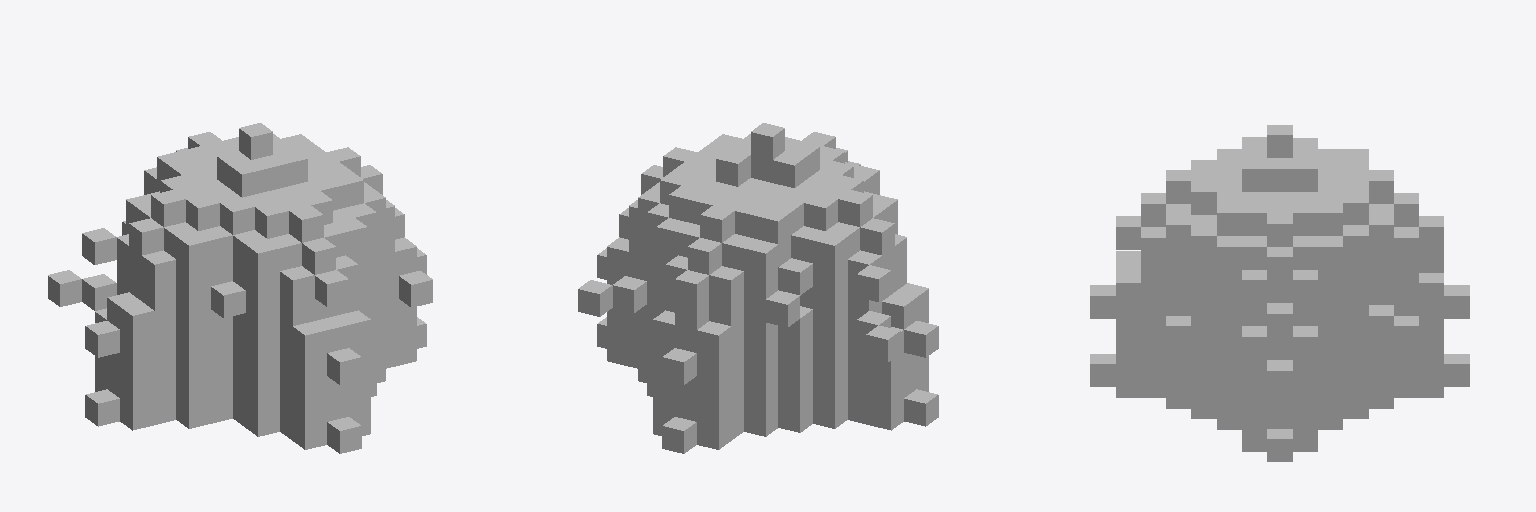
The model's file is Explosion 1.obj.
3 views of the same model, side by side, from view 1: azimuth 30°, elevation 25°; view 2: azimuth 150°, elevation 25°; view 3: azimuth 270°, elevation 25° (orthographic).
Parts seen in each view (by area): view 1: object 1; view 2: object 1; view 3: object 1.
Boxes of the visible parts, box(x1,y1,x2,y2) form: object 1: box(48, 123, 432, 453); object 1: box(578, 123, 938, 453); object 1: box(1090, 125, 1469, 461).
Size of the model in its own units: 1.5 by 1.1 by 1.5.